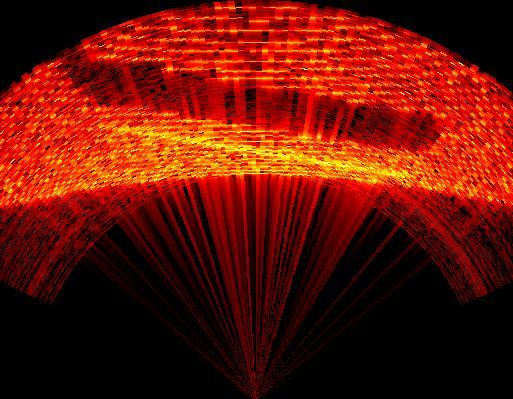pipe: (62, 51, 454, 189)
